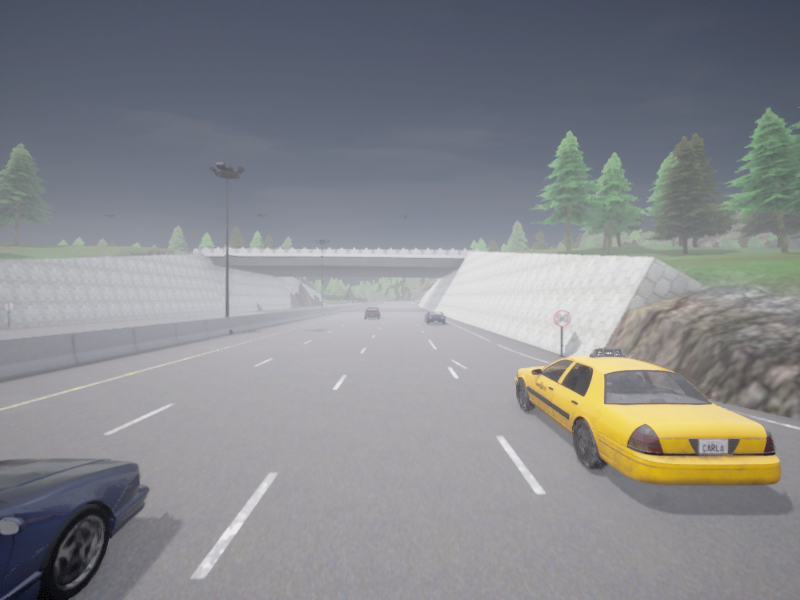vehicle: (515, 349, 780, 484), (0, 458, 149, 599), (424, 311, 445, 323), (365, 307, 380, 318)
